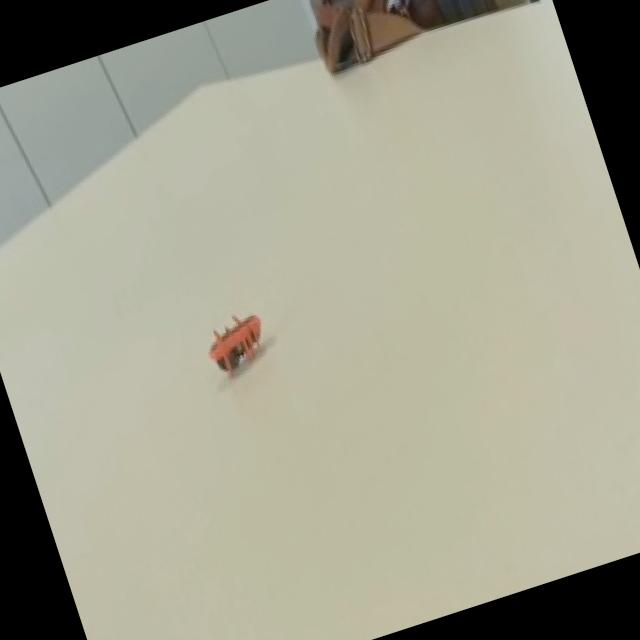7_NanoBug_Naranja: (182, 298, 306, 389)
